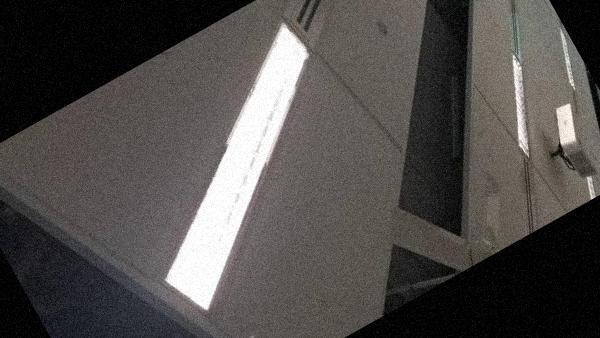light_on: (70, 6, 409, 337), (464, 45, 564, 166), (538, 22, 597, 98), (569, 165, 600, 204)
